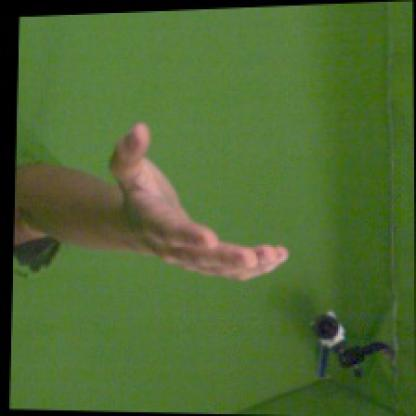Hand: (110, 122, 290, 283)
